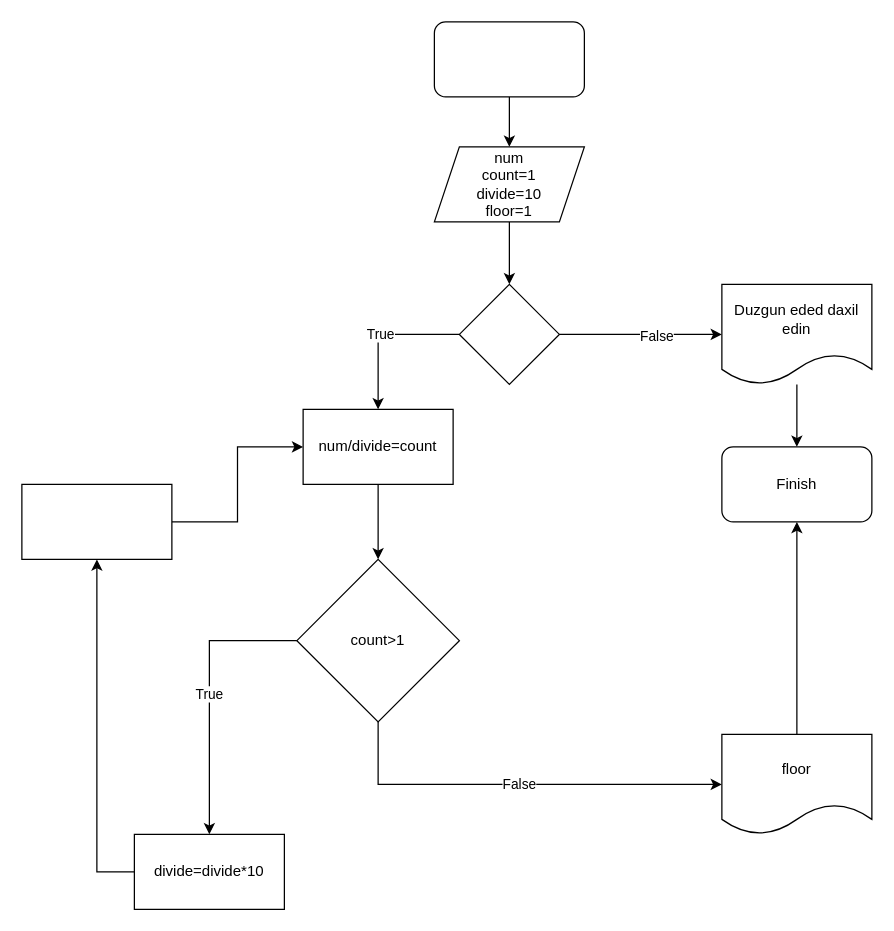
Some shapes in this 894 by 931 pixel diagram are drawn without their labels. The centre of each missing label's shape, as x and y in pixels:
"floor++" goes at (96,521).
"num>0 num%1==0" goes at (508,333).
"Start" goes at (508,59).
